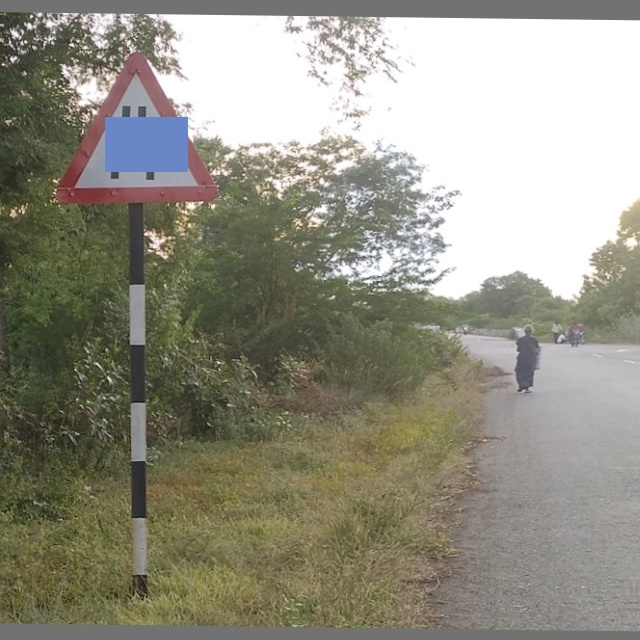Narrow_Road_Ahead: (56, 46, 224, 204)
